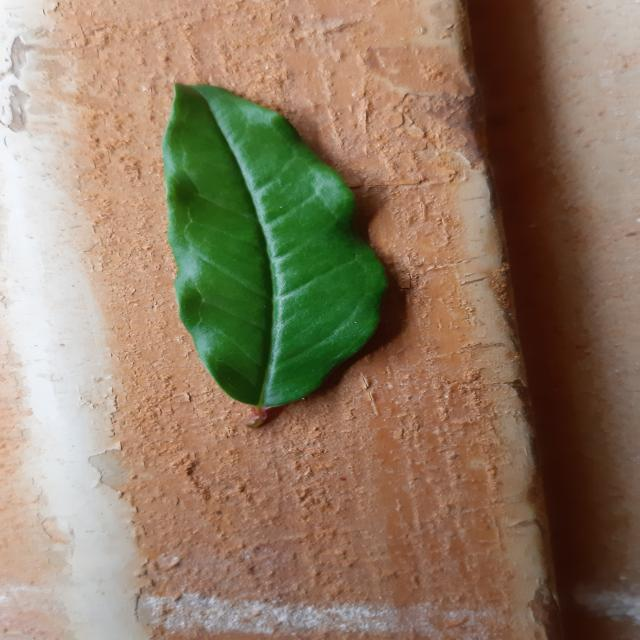pomgranate: (162, 84, 387, 428)
